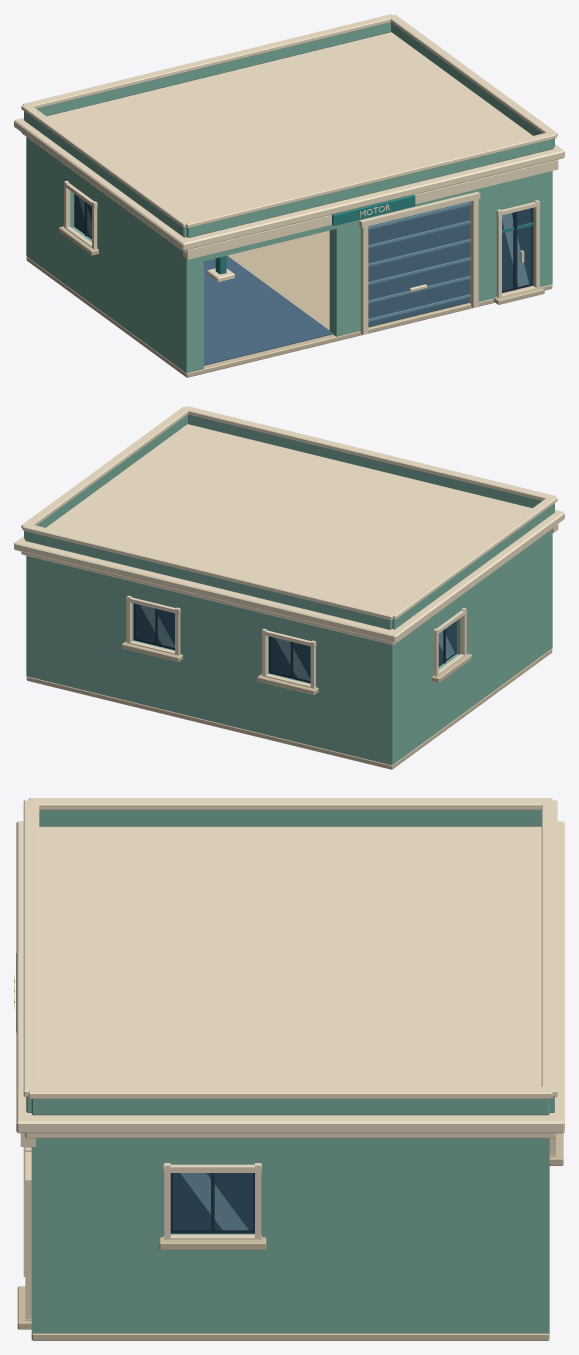
The model's file is small_motor_garage.glb.
The picture shows the model from 3 angles, top to bottom: view 1: azimuth 30°, elevation 25°; view 2: azimuth 150°, elevation 25°; view 3: azimuth 270°, elevation 25°; orthographic projection. The views are drawn at different scales.
Parts seen in each view (by area): view 1: SmallMotorGarage_StaticMesh; view 2: SmallMotorGarage_StaticMesh; view 3: SmallMotorGarage_StaticMesh.
Boxes of the visible parts, x1,y1,x2,y2 form: SmallMotorGarage_StaticMesh: [14, 14, 564, 377]; SmallMotorGarage_StaticMesh: [14, 406, 564, 769]; SmallMotorGarage_StaticMesh: [14, 798, 564, 1340].
Size of the model in its own units: 12.12 by 4.72 by 9.36.
